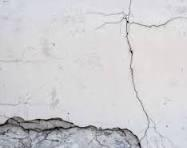Crack: (84, 1, 187, 146)
